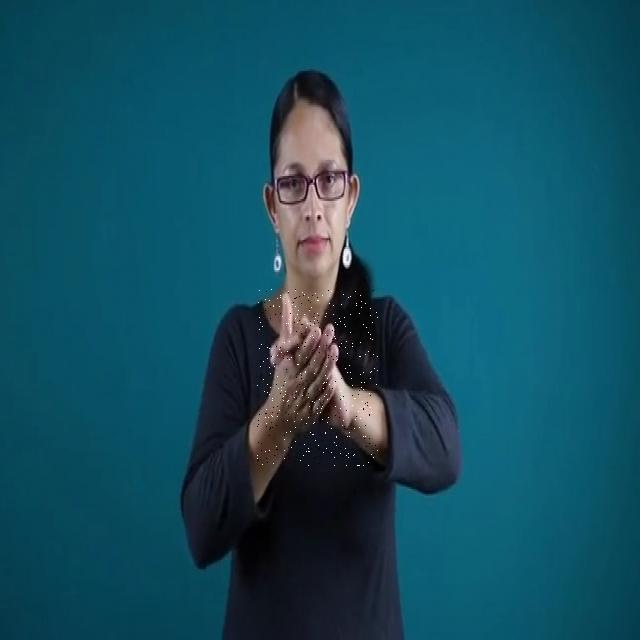burger: (257, 288, 378, 466)
